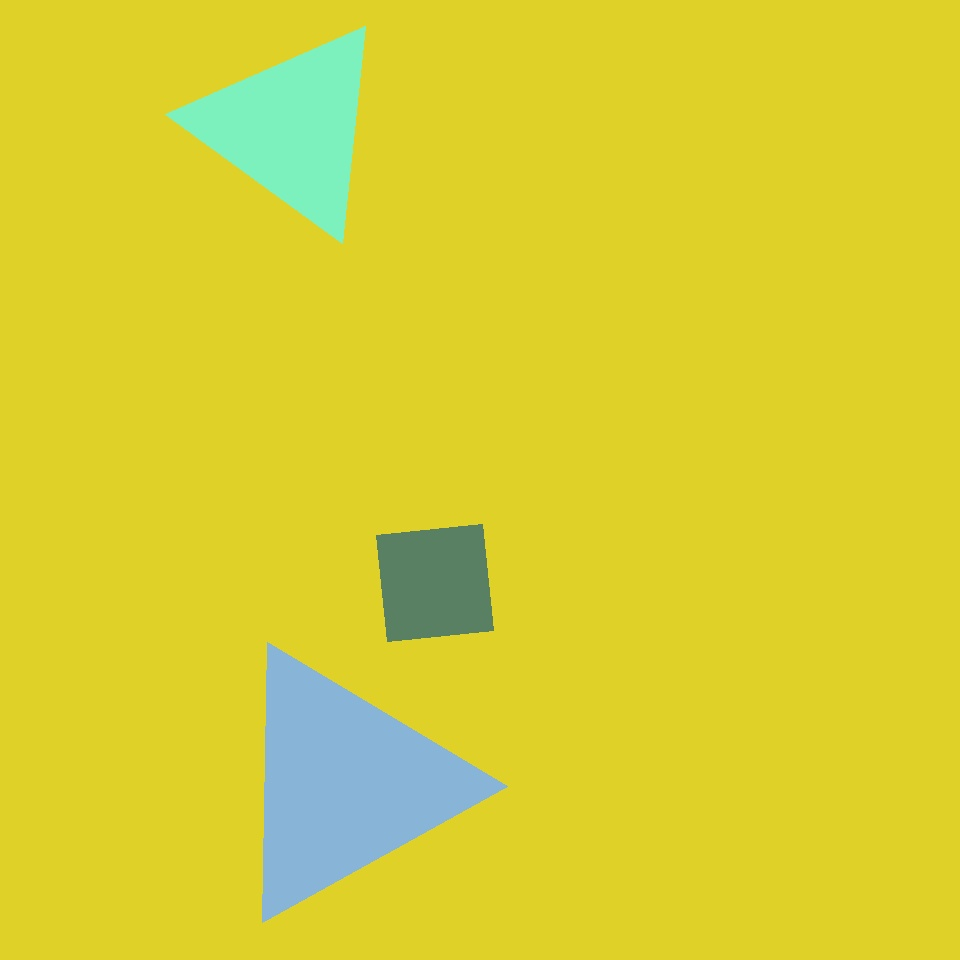circle: (224, 644, 468, 924), (191, 19, 391, 236)
square: (376, 524, 494, 642)
